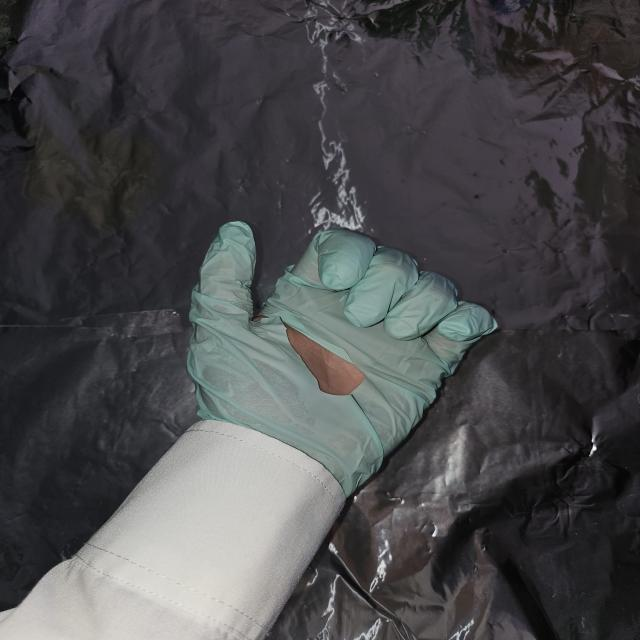gloves_damaged: (182, 220, 503, 499)
